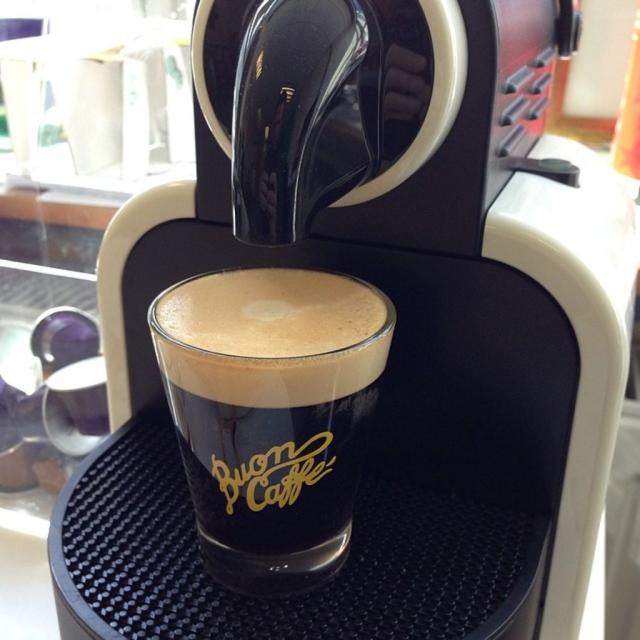Coffee: (151, 269, 396, 552)
